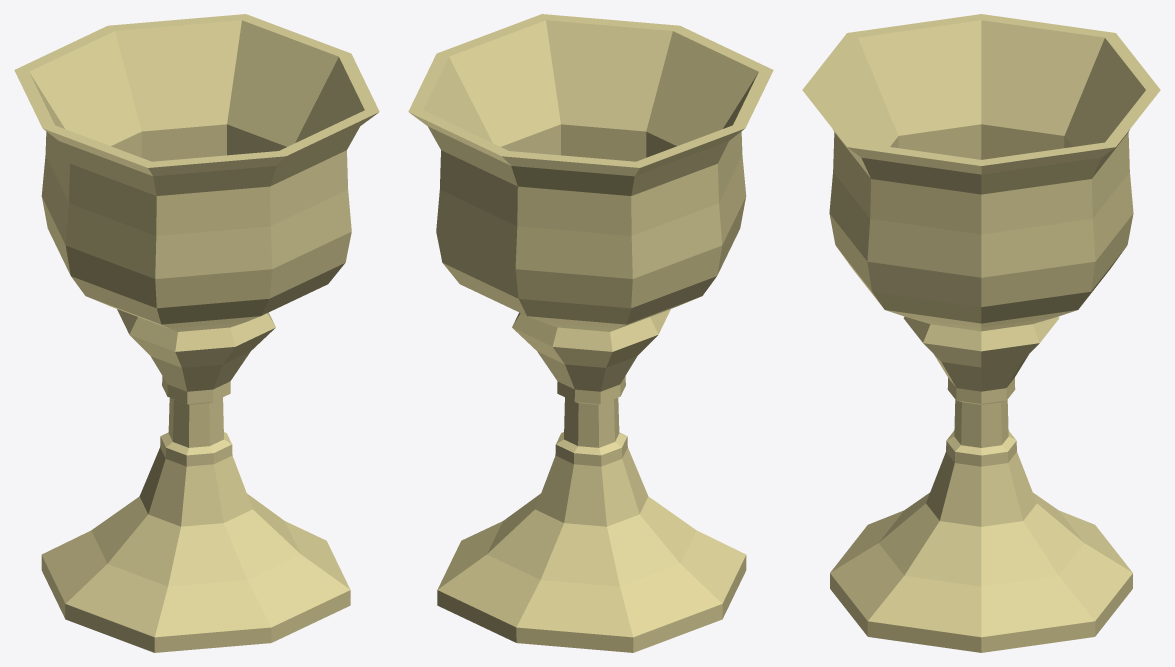
File: chalice.glb
3 renders of one model, left to right at view 1: azimuth 30°, elevation 25°; view 2: azimuth 150°, elevation 25°; view 3: azimuth 270°, elevation 25°, orthographic.
Visible parts, largest first — view 1: Chalice; view 2: Chalice; view 3: Chalice.
Boxes of the visible parts, <box> form: Chalice: <box>14,14,379,652</box>; Chalice: <box>408,14,773,652</box>; Chalice: <box>802,14,1160,652</box>.
Size of the model in its own units: 0.4857 by 0.7468 by 0.4857.
